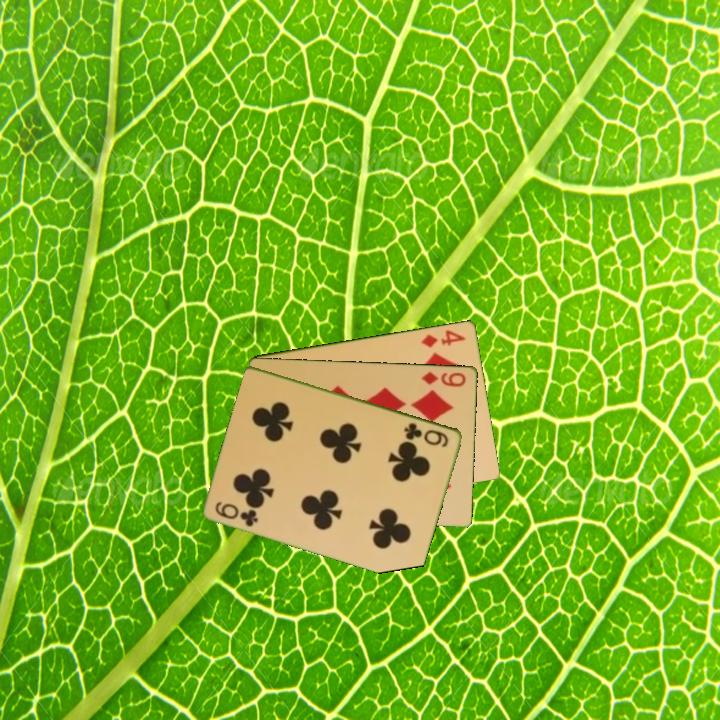4d: (418, 326, 469, 350)
6c: (401, 419, 452, 450), (212, 498, 261, 529)
9d: (418, 368, 469, 389)
